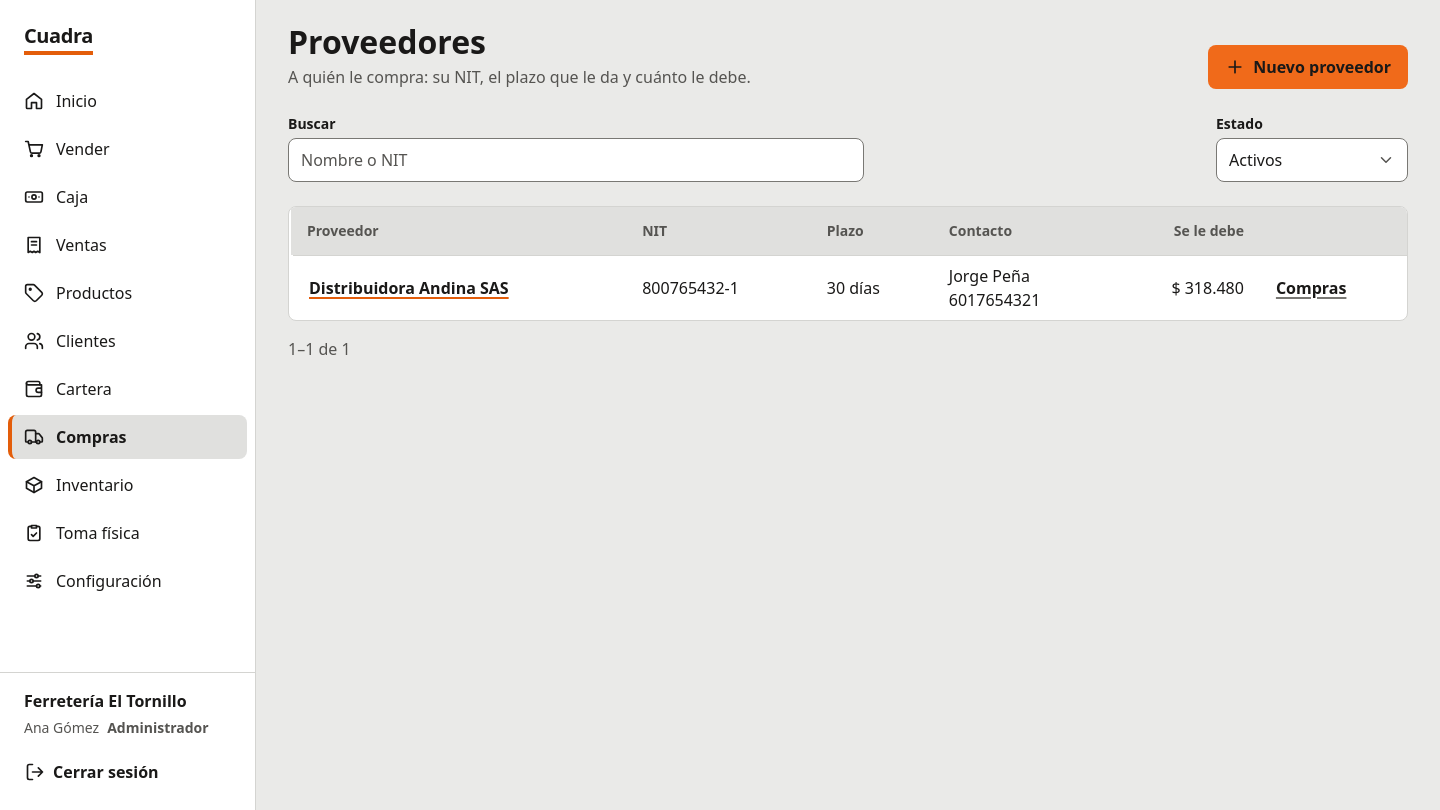
Test: SupplierListPage › busca por nombre o NIT y filtra por estado
Type "800765" into the search field labelled "Buscar". click: (576, 160)
box: [288,138,864,182]
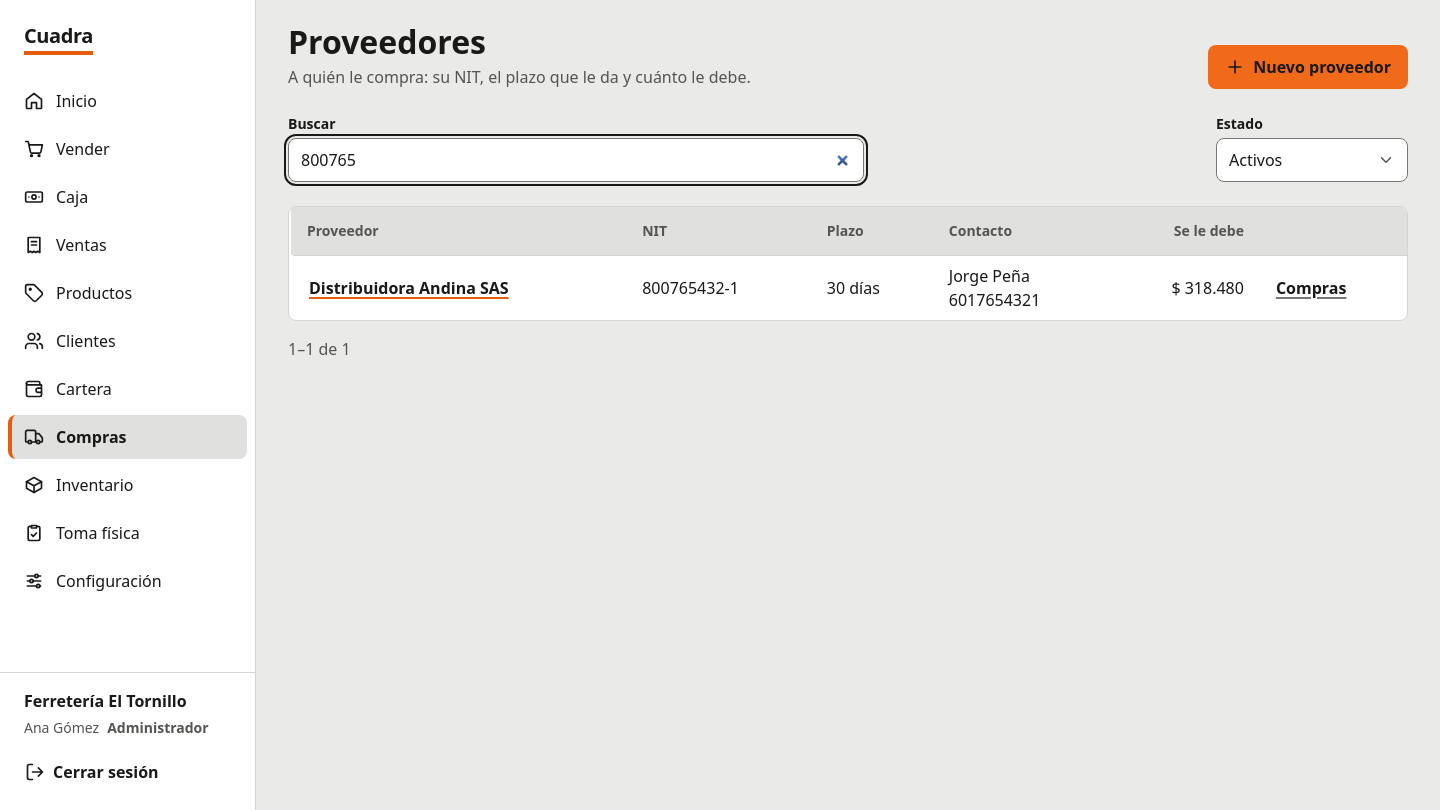
Clear the search field labelled "Buscar". click: (576, 160)
box: [288,138,864,182]
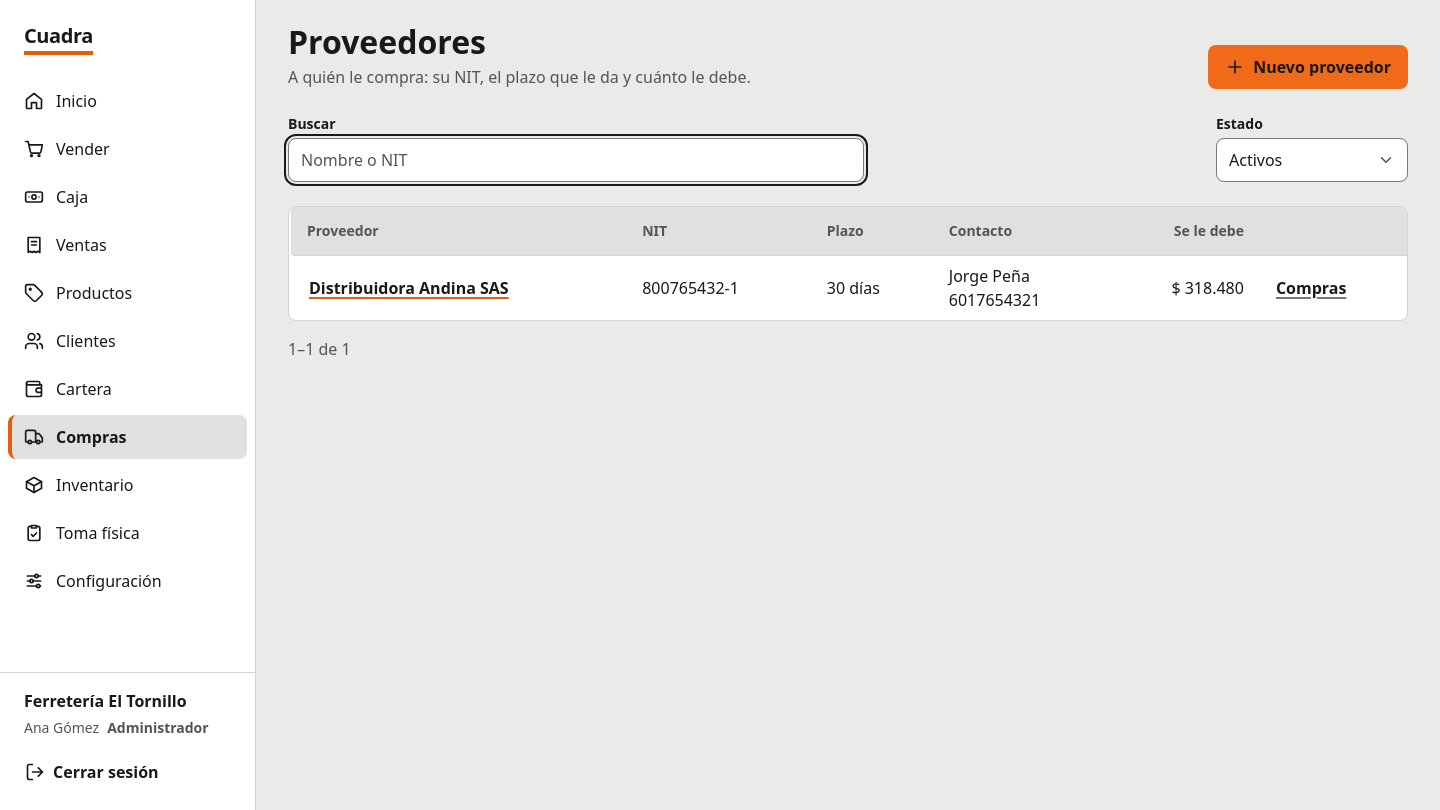
Click the dropdown named "Estado". click: click(1312, 160)
box: [1216,138,1408,182]
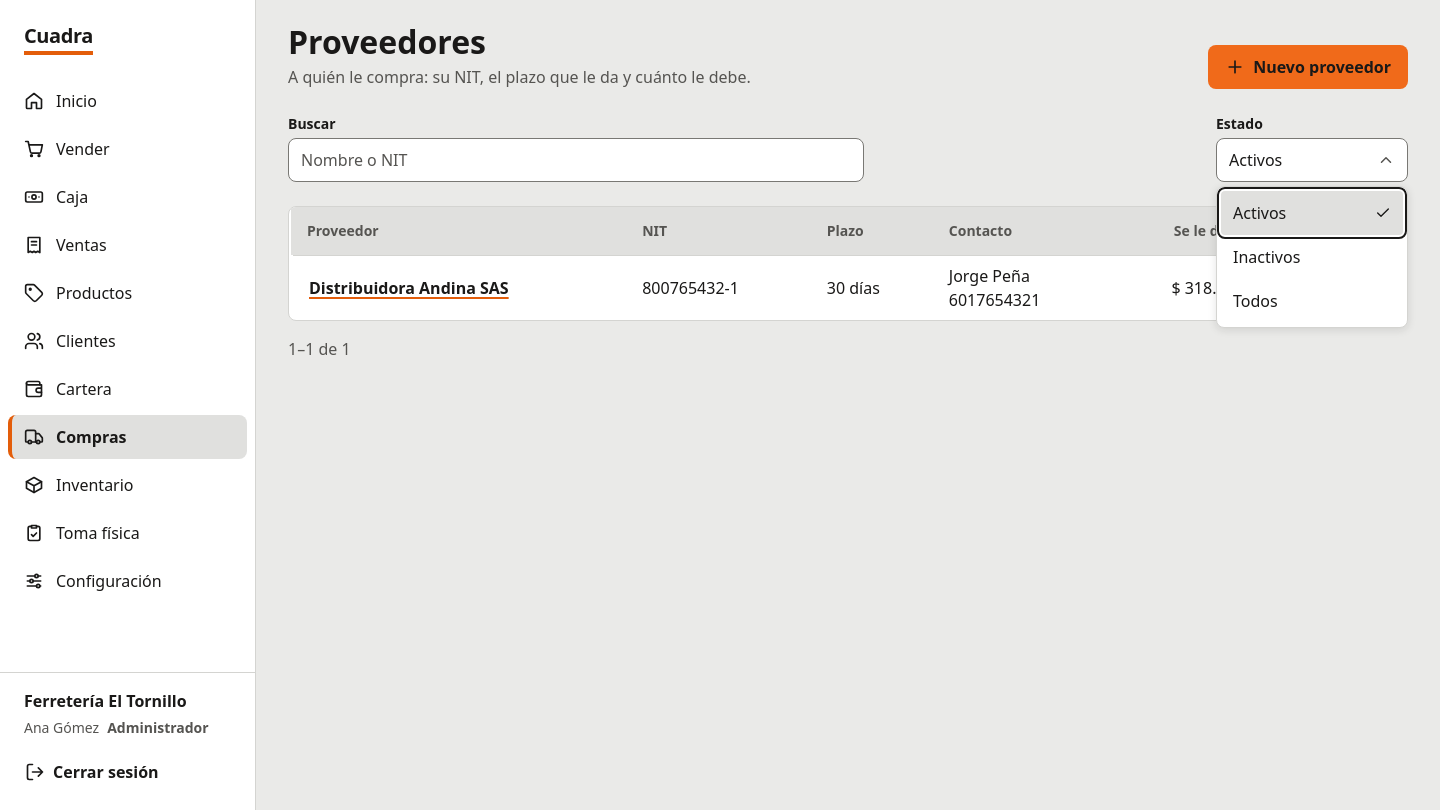
Click the option "Inactivos". click: click(1267, 257)
box: [1233,246,1300,268]
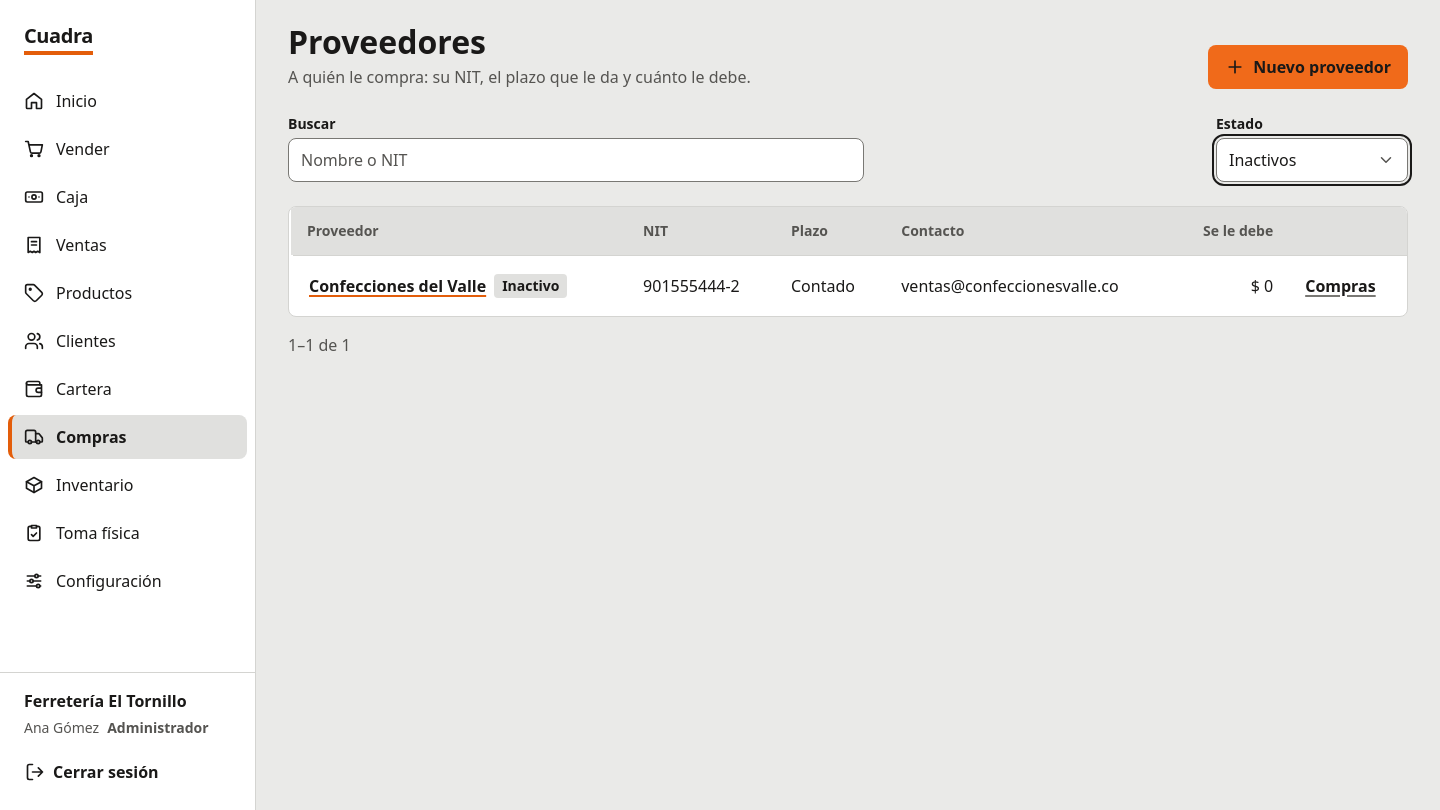
Check: the row "Confecciones del Valle" is shown, box [291,255,1407,316]
Check: the link "Distribuidora Andina" is gone
